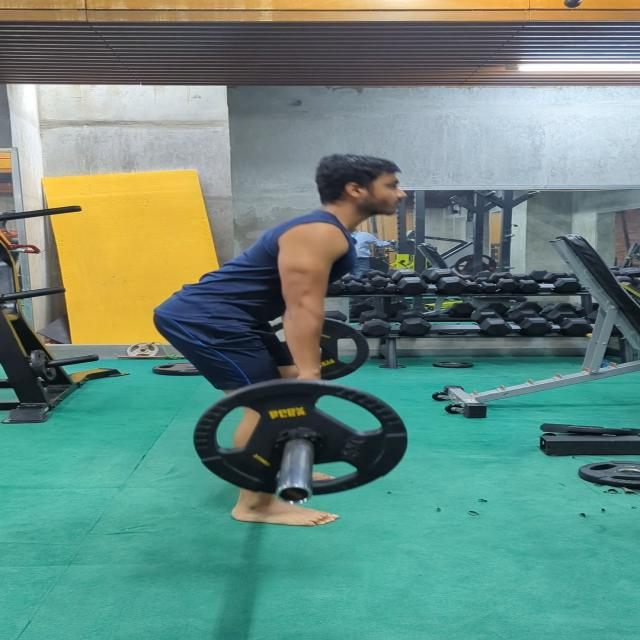Normal_Deadlifts: (146, 154, 412, 528)
